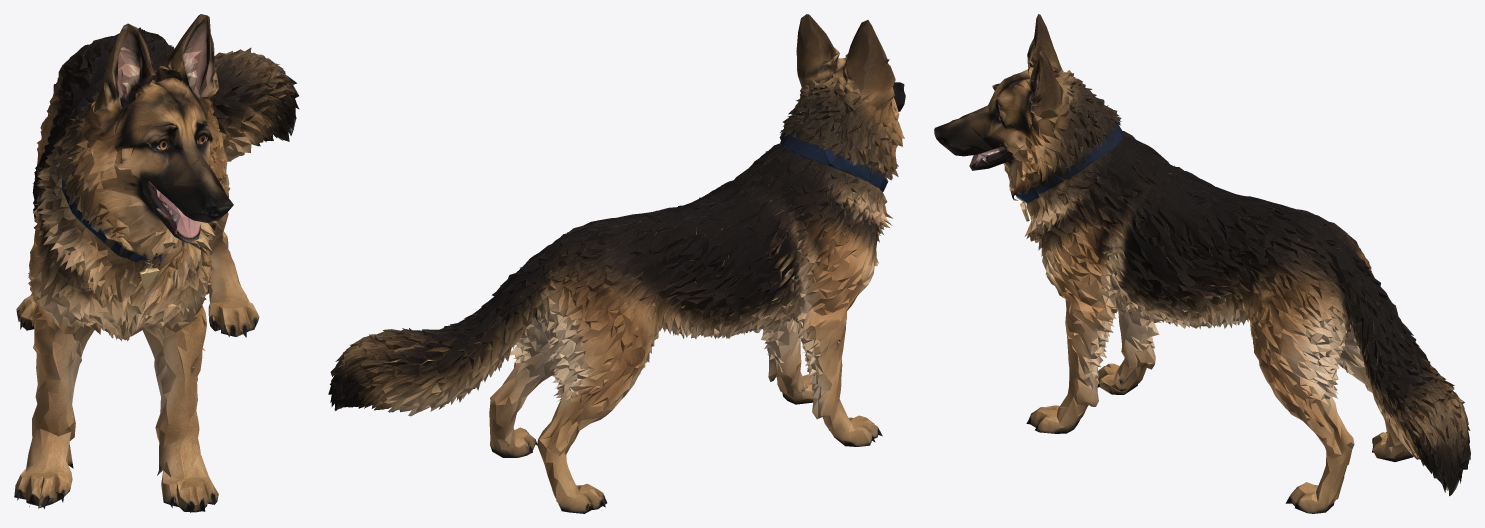
The picture shows the model from 3 angles, left to right: view 1: azimuth 30°, elevation 25°; view 2: azimuth 150°, elevation 25°; view 3: azimuth 270°, elevation 25°; orthographic projection. The views are drawn at different scales.
Visible parts, largest first — view 1: Mesh_0; view 2: Mesh_0; view 3: Mesh_0.
Part boxes in pixels (box(x1,y1,x2,y2)): Mesh_0: box(14, 14, 299, 512); Mesh_0: box(328, 14, 905, 513); Mesh_0: box(934, 14, 1470, 513).
Size of the model in its own units: 1.55 by 1.5 by 1.9.
Materials: 1 (1 with a texture image).
